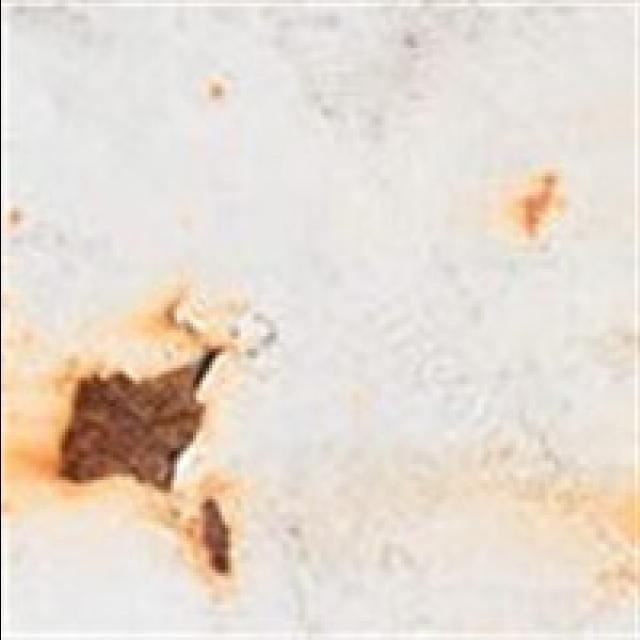Corrosion: (51, 275, 261, 597), (57, 344, 220, 492)
